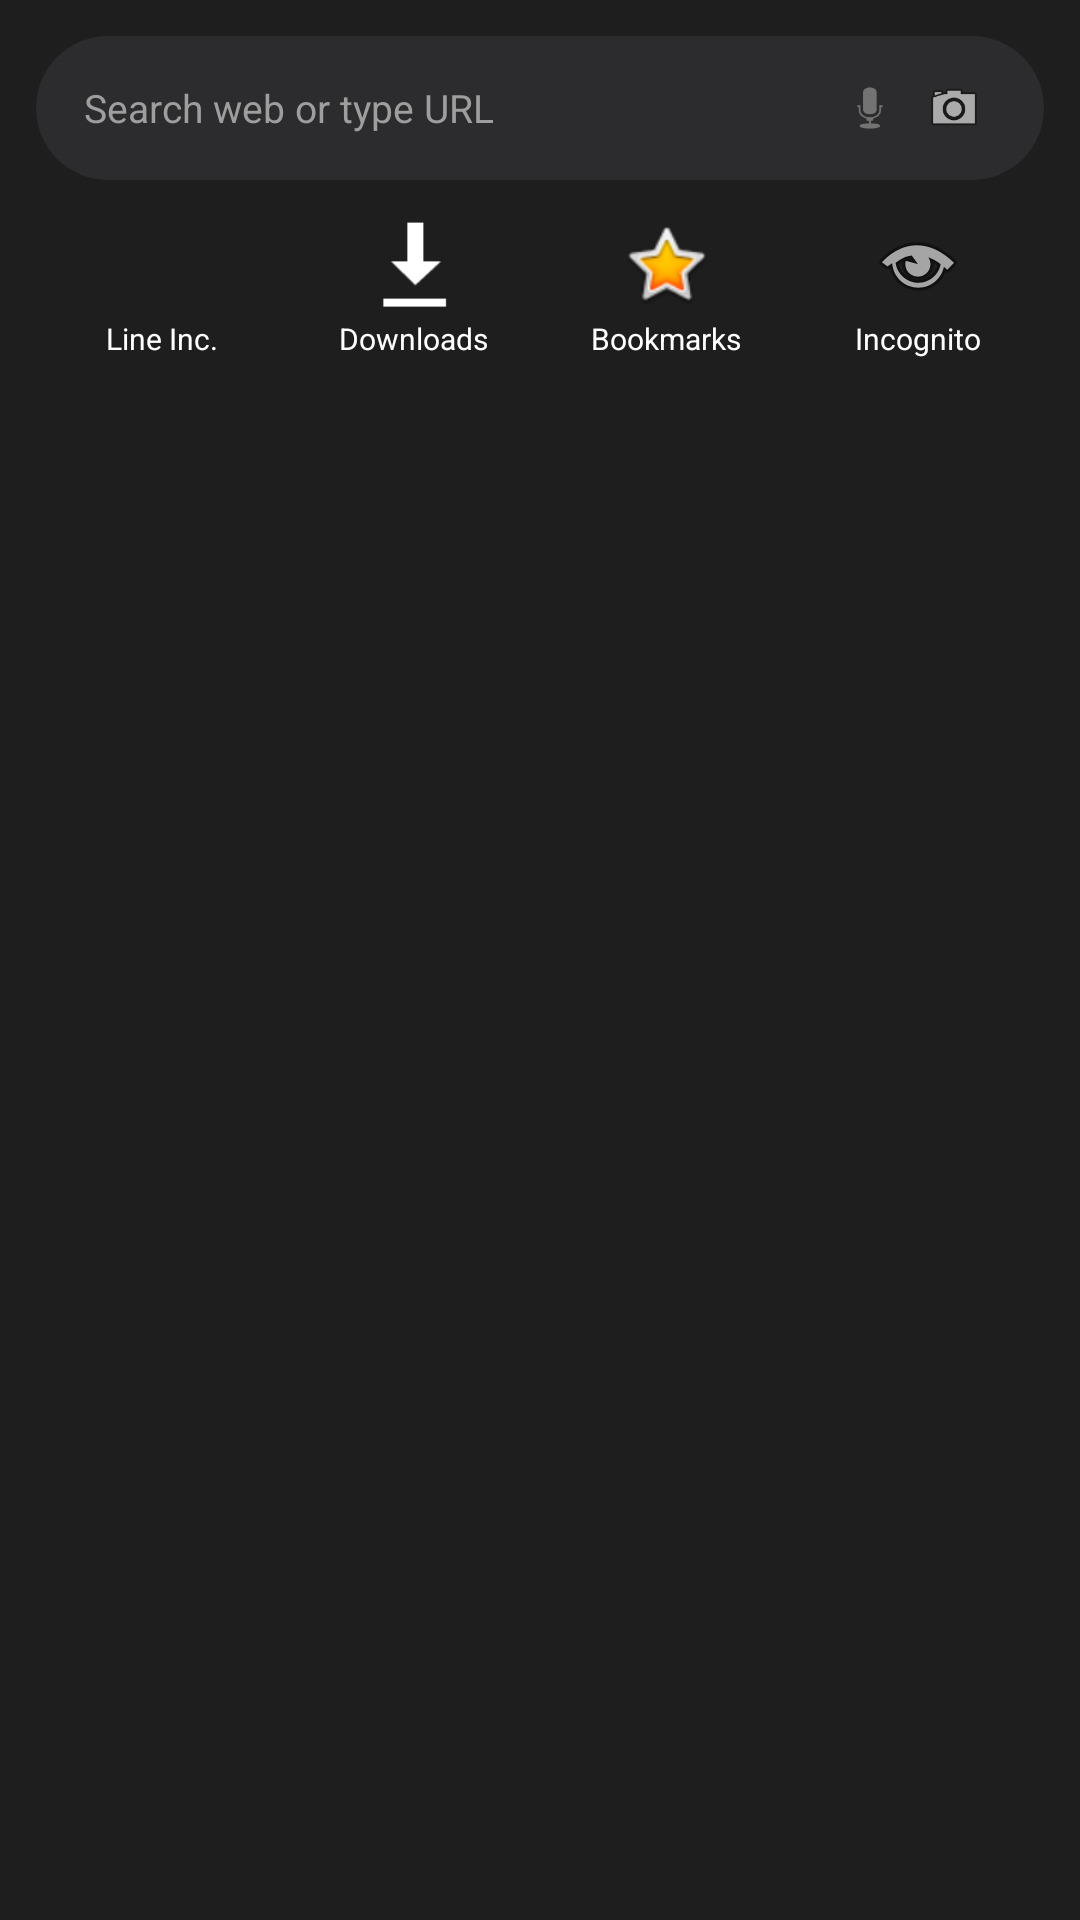

Icons on this 1080w x 1920h Android screen, each with its box as {"x1": x1, "y1": y1, "x2": x2, "y2": y2}:
download done: {"x1": 383, "y1": 222, "x2": 447, "y2": 307}
star on: {"x1": 629, "y1": 227, "x2": 705, "y2": 300}
view: {"x1": 882, "y1": 245, "x2": 954, "y2": 288}
Voice Search: {"x1": 857, "y1": 87, "x2": 883, "y2": 129}
